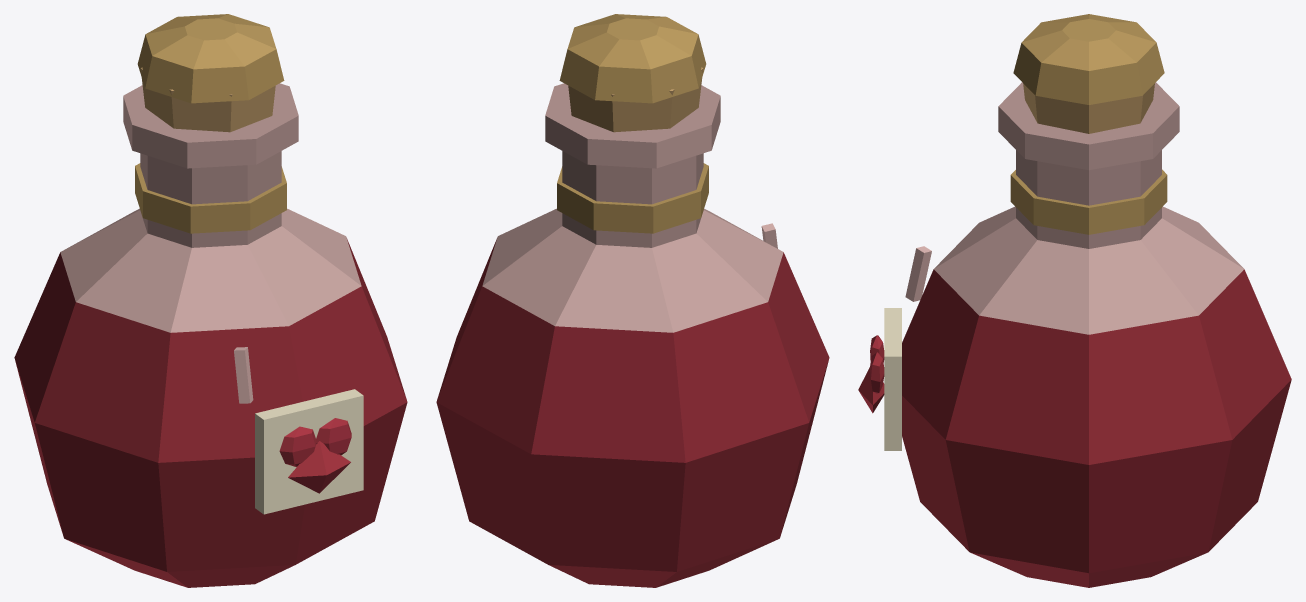
File: item_potion_health_greater.glb
3 views of the same model, side by side, from view 1: azimuth 30°, elevation 25°; view 2: azimuth 150°, elevation 25°; view 3: azimuth 270°, elevation 25° (orthographic).
Parts seen in each view (by area): view 1: item_potion_health_greater; view 2: item_potion_health_greater; view 3: item_potion_health_greater.
Boxes of the visible parts, box(x1,y1,x2,y2) form: item_potion_health_greater: box(14, 14, 407, 587); item_potion_health_greater: box(436, 14, 829, 587); item_potion_health_greater: box(858, 14, 1291, 587).
Size of the model in its own units: 0.345 by 0.4888 by 0.3689.
